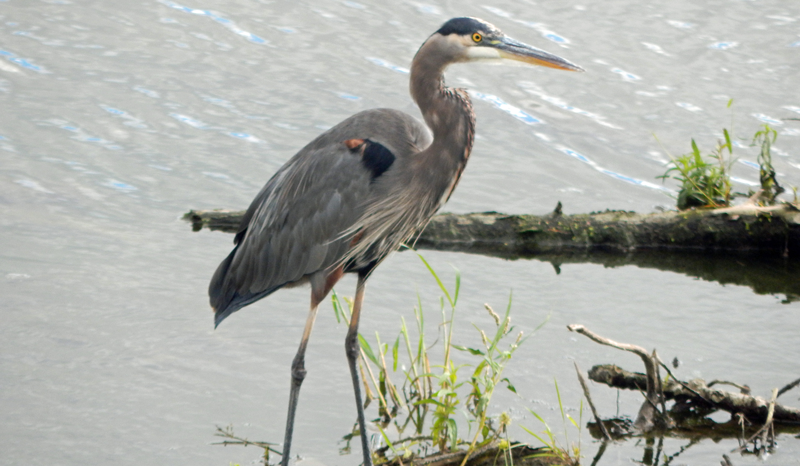heron: (206, 13, 582, 466)
